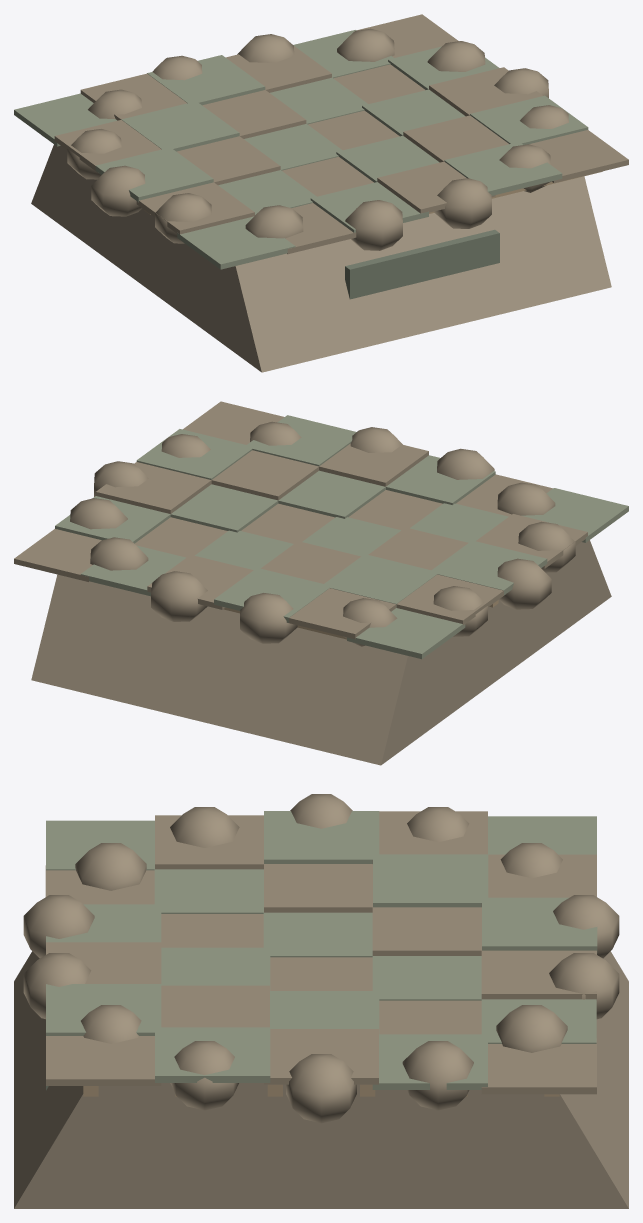
The model's file is armoured-column-and-field-camp-camouflaged-hide-49587245__23716.glb.
3 views of the same model, one above another, from view 1: azimuth 30°, elevation 25°; view 2: azimuth 150°, elevation 25°; view 3: azimuth 270°, elevation 25° (orthographic). The views are drawn at different scales.
Parts seen in each view (by area): view 1: camouflaged-hide; view 2: camouflaged-hide; view 3: camouflaged-hide.
Part boxes in pixels (x1,y1,x2,y2): camouflaged-hide: [14, 14, 628, 372]; camouflaged-hide: [14, 401, 628, 765]; camouflaged-hide: [14, 794, 628, 1208].
Size of the model in its own units: 5.41 by 1.44 by 4.8.
